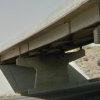Bridge: (4, 4, 99, 63)
